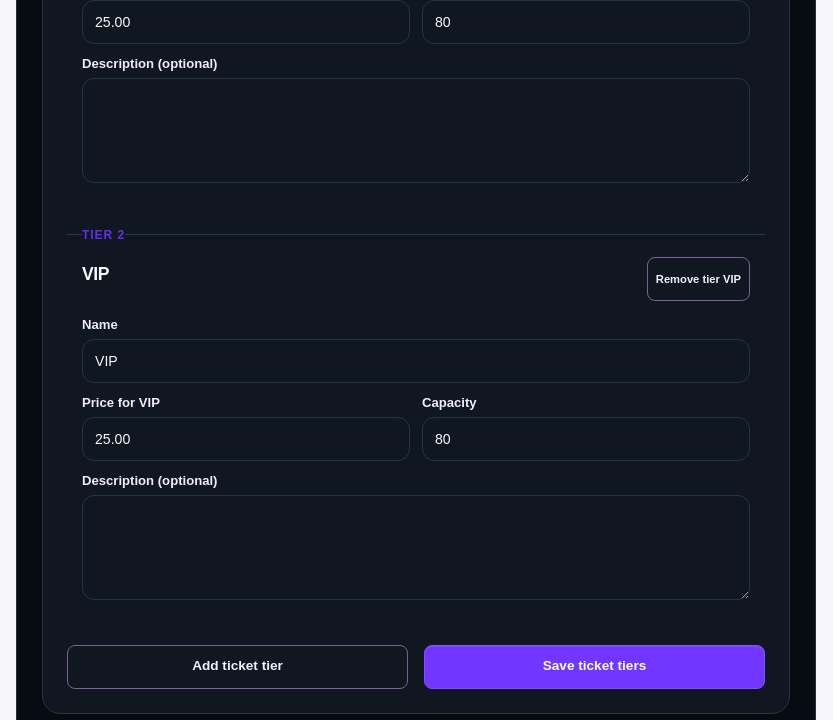
Test: OrganizerTicketTiersPage › validates duplicate tier names before mutating and retains both values
(page scrolled)
Replace the text in the field labelled "Name" with " general admission " at point(416, 361), box 82,339 -> 750,383
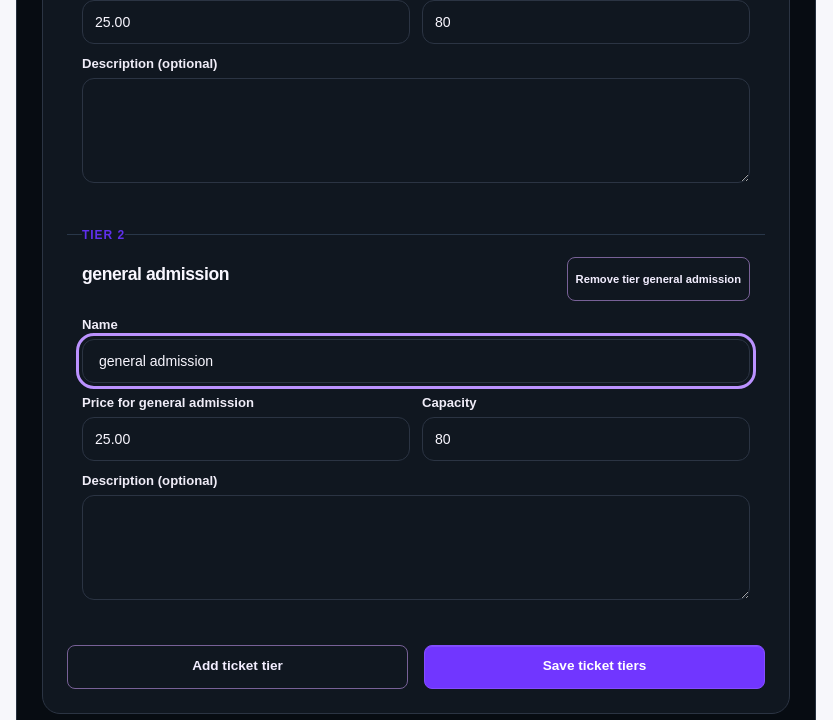
Click the button "Save ticket tiers" at point(594, 667), box 424,645 -> 765,689
(page scrolled)
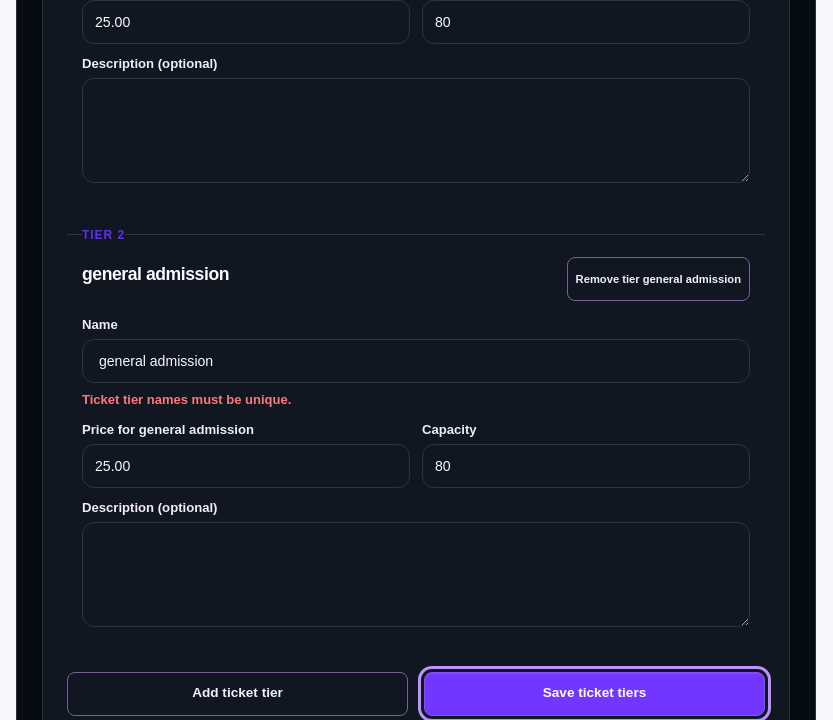
Expected: the text "Ticket tier names must be unique." is shown 2 times
